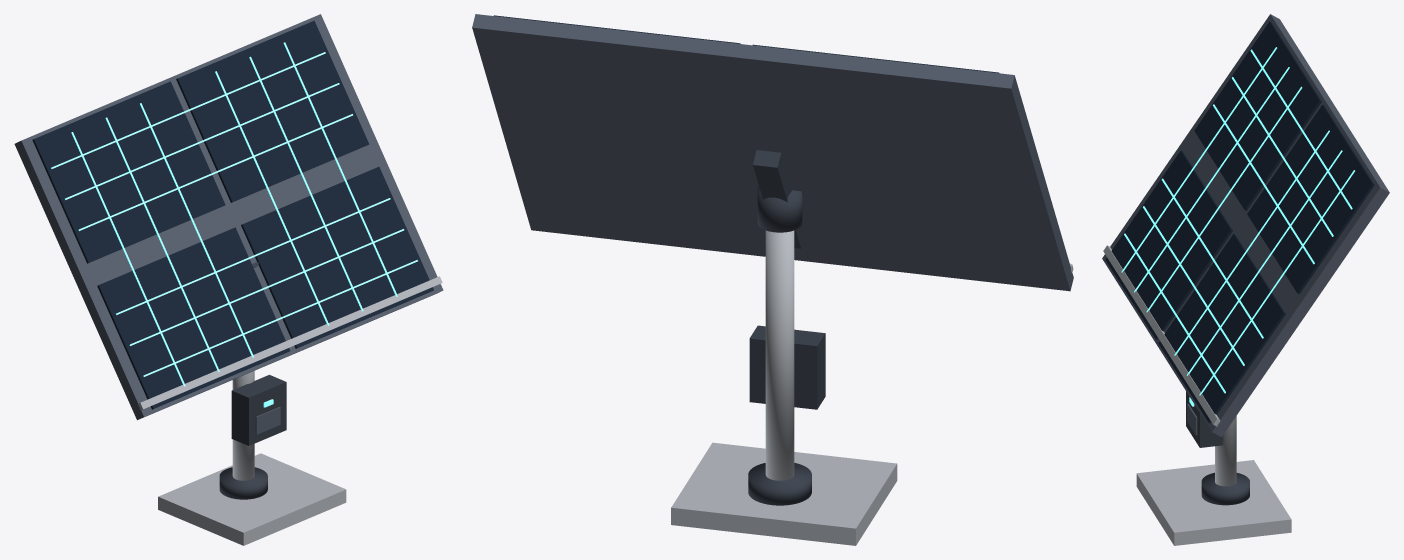
The model's file is solar-panel.glb.
3 renders of one model, left to right at view 1: azimuth 30°, elevation 25°; view 2: azimuth 150°, elevation 25°; view 3: azimuth 270°, elevation 25°, orthographic. The views are drawn at different scales.
Visible parts, largest first — view 1: Solar_Panel_Frame, Solar_Panel_Cell_01_02, Solar_Panel_Cell_02_02, Solar_Panel_Cell_01_01, Solar_Panel_Cell_02_01, Solar_Panel_Base_Plate, Solar_Panel_Junction, Solar_Panel_Edge_Trim, Solar_Panel_Base_Ring, Solar_Panel_Pole, Solar_Panel_Line_V_02_02, Solar_Panel_Line_V_02_03 (+10 smaller); view 2: Solar_Panel_Frame, Solar_Panel_Base_Plate, Solar_Panel_Pole, Solar_Panel_Junction, Solar_Panel_Base_Ring, Solar_Panel_Back_Arm, Solar_Panel_Pivot; view 3: Solar_Panel_Frame, Solar_Panel_Cell_02_02, Solar_Panel_Cell_01_02, Solar_Panel_Cell_02_01, Solar_Panel_Cell_01_01, Solar_Panel_Base_Plate, Solar_Panel_Edge_Trim, Solar_Panel_Base_Ring, Solar_Panel_Pole, Solar_Panel_Junction, Solar_Panel_Line_V_02_01, Solar_Panel_Line_V_02_03 (+10 smaller).
Boxes of the visible parts, box(x1,y1,x2,y2) form: Solar_Panel_Frame: box(14, 14, 443, 420); Solar_Panel_Cell_01_02: box(32, 81, 225, 263); Solar_Panel_Cell_02_02: box(176, 20, 369, 202); Solar_Panel_Cell_01_01: box(97, 227, 290, 409); Solar_Panel_Cell_02_01: box(241, 167, 433, 348); Solar_Panel_Base_Plate: box(158, 453, 346, 545); Solar_Panel_Junction: box(231, 374, 286, 445); Solar_Panel_Edge_Trim: box(138, 276, 442, 410); Solar_Panel_Base_Ring: box(219, 467, 267, 499); Solar_Panel_Pole: box(232, 371, 254, 480); Solar_Panel_Line_V_02_02: box(249, 56, 363, 311); Solar_Panel_Line_V_02_03: box(283, 42, 397, 296); Solar_Panel_Frame: box(472, 14, 1073, 291); Solar_Panel_Base_Plate: box(671, 442, 897, 545); Solar_Panel_Pole: box(765, 230, 794, 480); Solar_Panel_Junction: box(749, 325, 825, 409); Solar_Panel_Base_Ring: box(748, 463, 811, 505); Solar_Panel_Back_Arm: box(753, 150, 804, 248); Solar_Panel_Pivot: box(757, 186, 802, 232); Solar_Panel_Frame: box(1102, 14, 1389, 436); Solar_Panel_Cell_02_02: box(1247, 104, 1374, 294); Solar_Panel_Cell_01_02: box(1194, 21, 1321, 210); Solar_Panel_Cell_02_01: box(1158, 233, 1285, 423); Solar_Panel_Cell_01_01: box(1105, 150, 1232, 340); Solar_Panel_Base_Plate: box(1136, 460, 1291, 545); Solar_Panel_Edge_Trim: box(1103, 245, 1220, 426); Solar_Panel_Base_Ring: box(1201, 472, 1249, 505); Solar_Panel_Pole: box(1215, 416, 1236, 486); Solar_Panel_Junction: box(1186, 391, 1223, 447); Solar_Panel_Line_V_02_01: box(1174, 130, 1329, 355); Solar_Panel_Line_V_02_03: box(1199, 170, 1354, 395).
Bounding box in the file's own units: 7.45 × 7.11 × 4.68.
